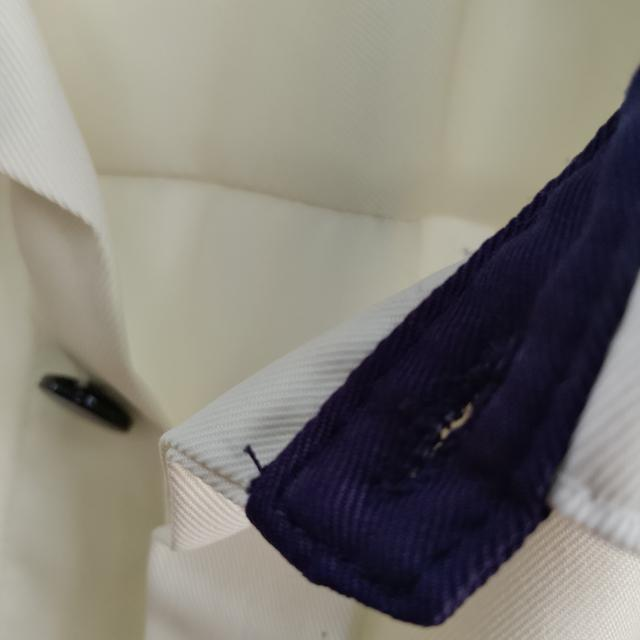education_male_uniform: (2, 35, 640, 635)
